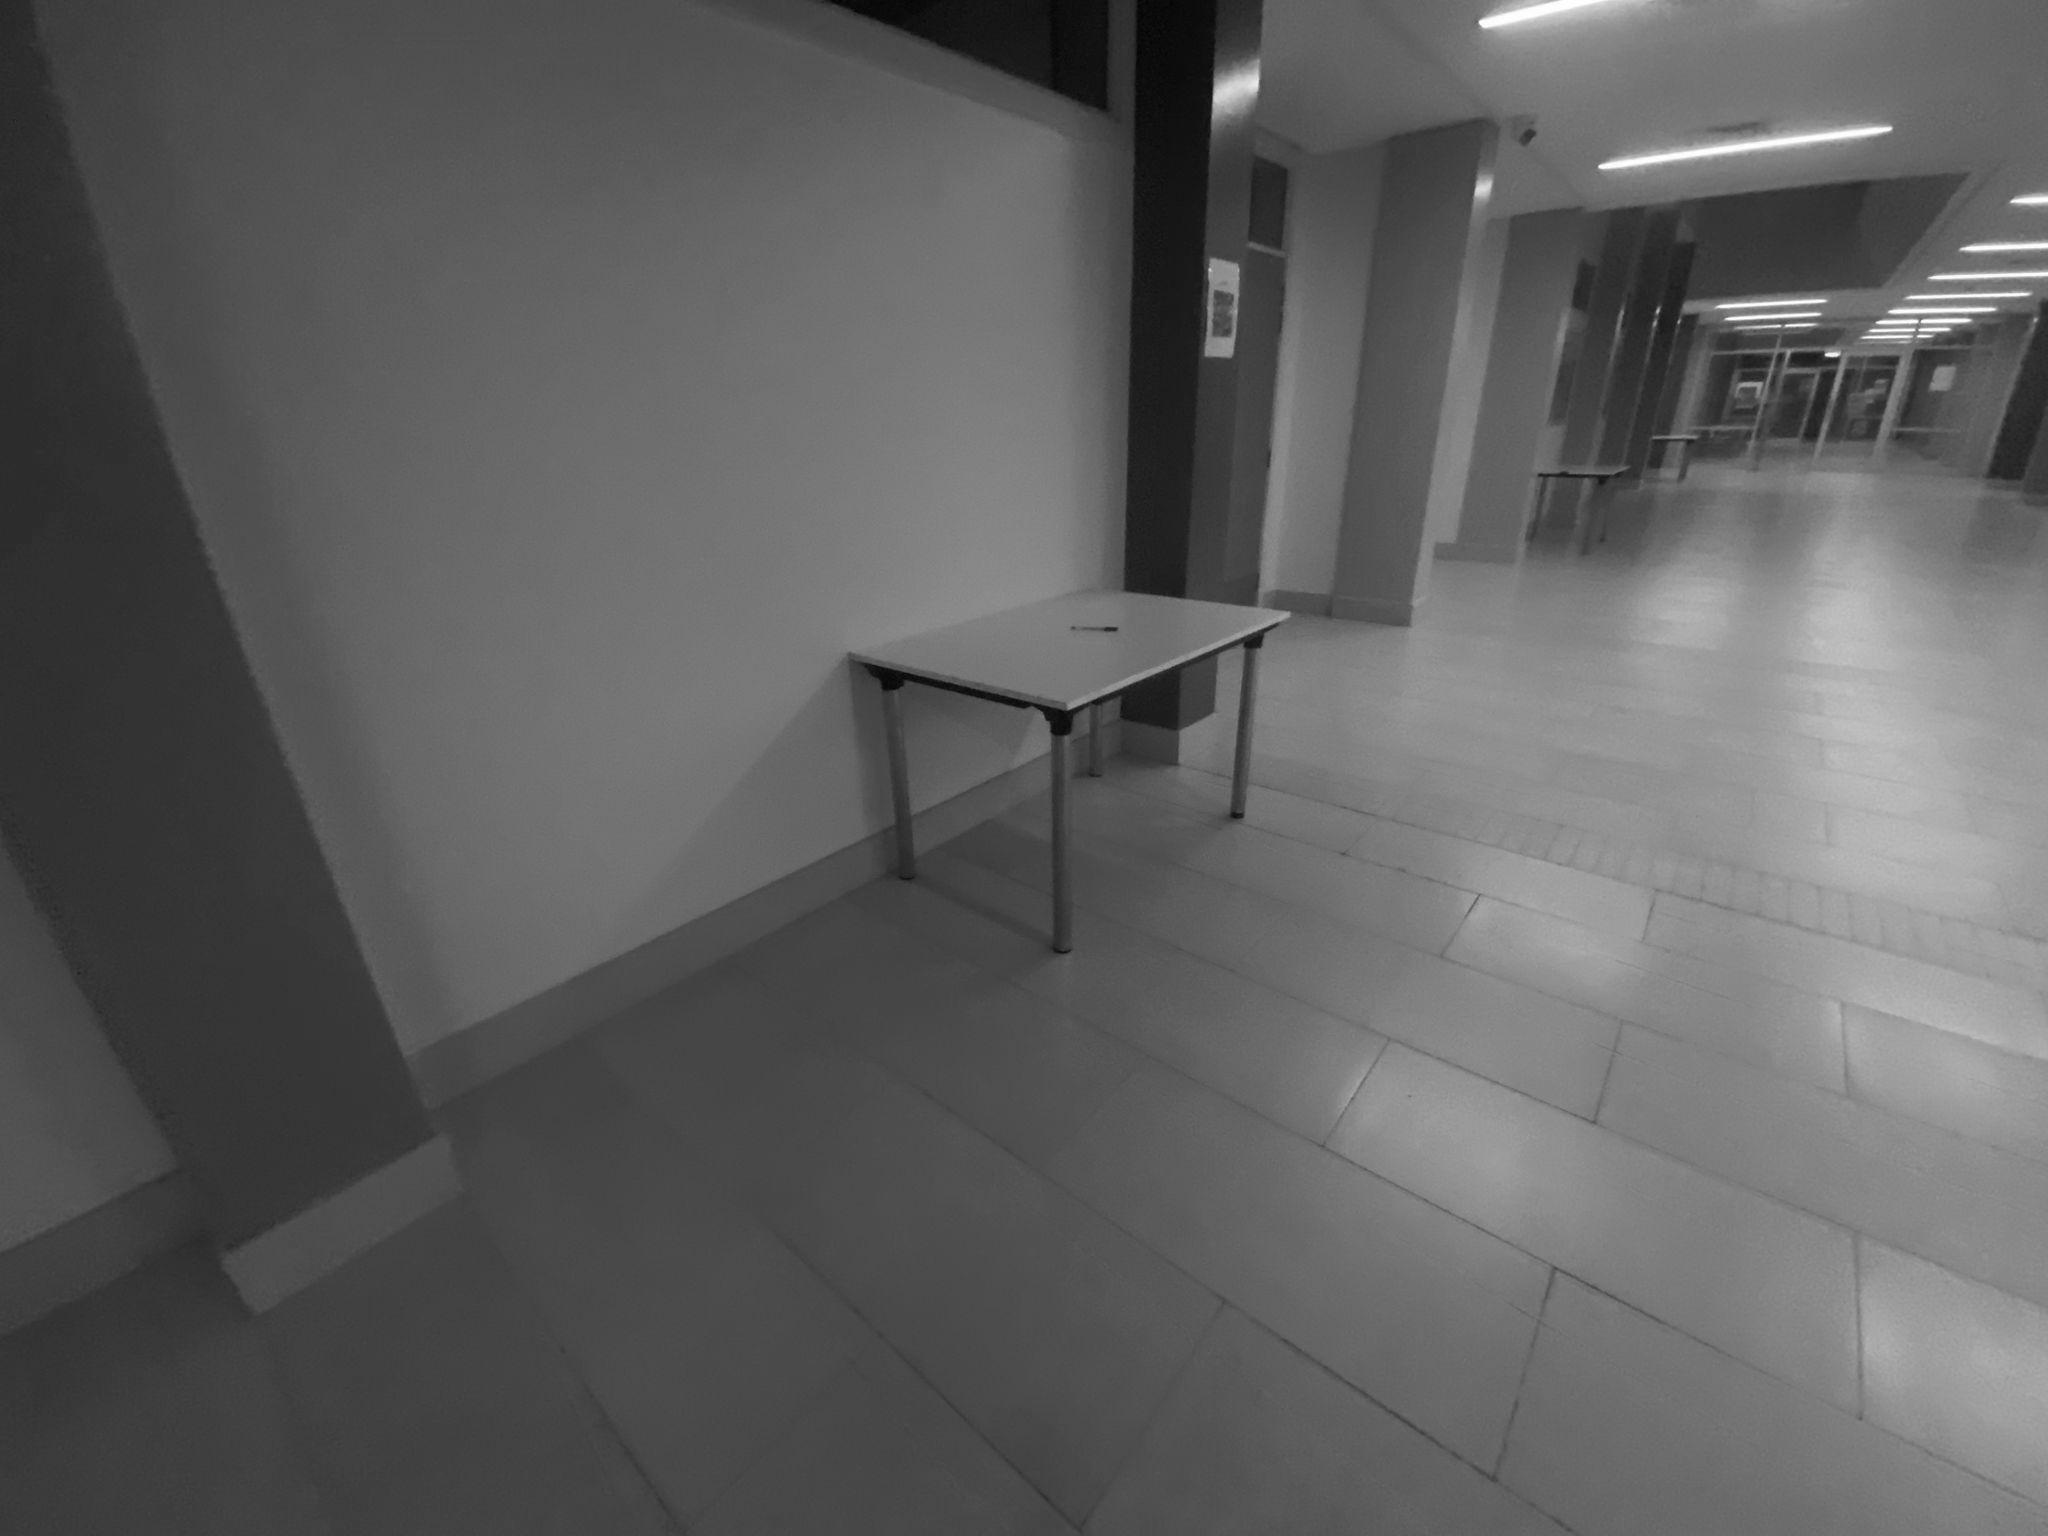Pillar: (1334, 119, 1498, 620), (1124, 0, 1259, 600), (1458, 210, 1590, 555), (1558, 210, 1646, 461), (1588, 211, 1677, 461), (1629, 244, 1695, 478), (1127, 665, 1214, 736)
Table: (850, 591, 1288, 954), (1529, 463, 1625, 552)
Wall: (35, 0, 1129, 1050), (1264, 145, 1384, 595)
